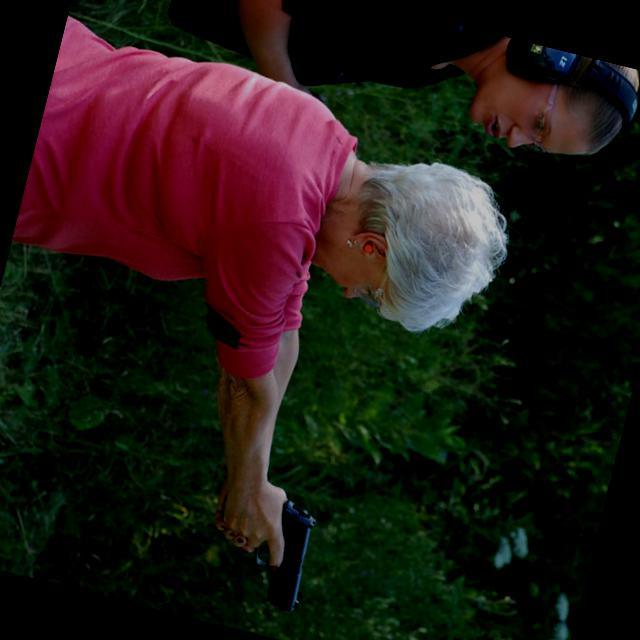handgun: (244, 495, 324, 611)
